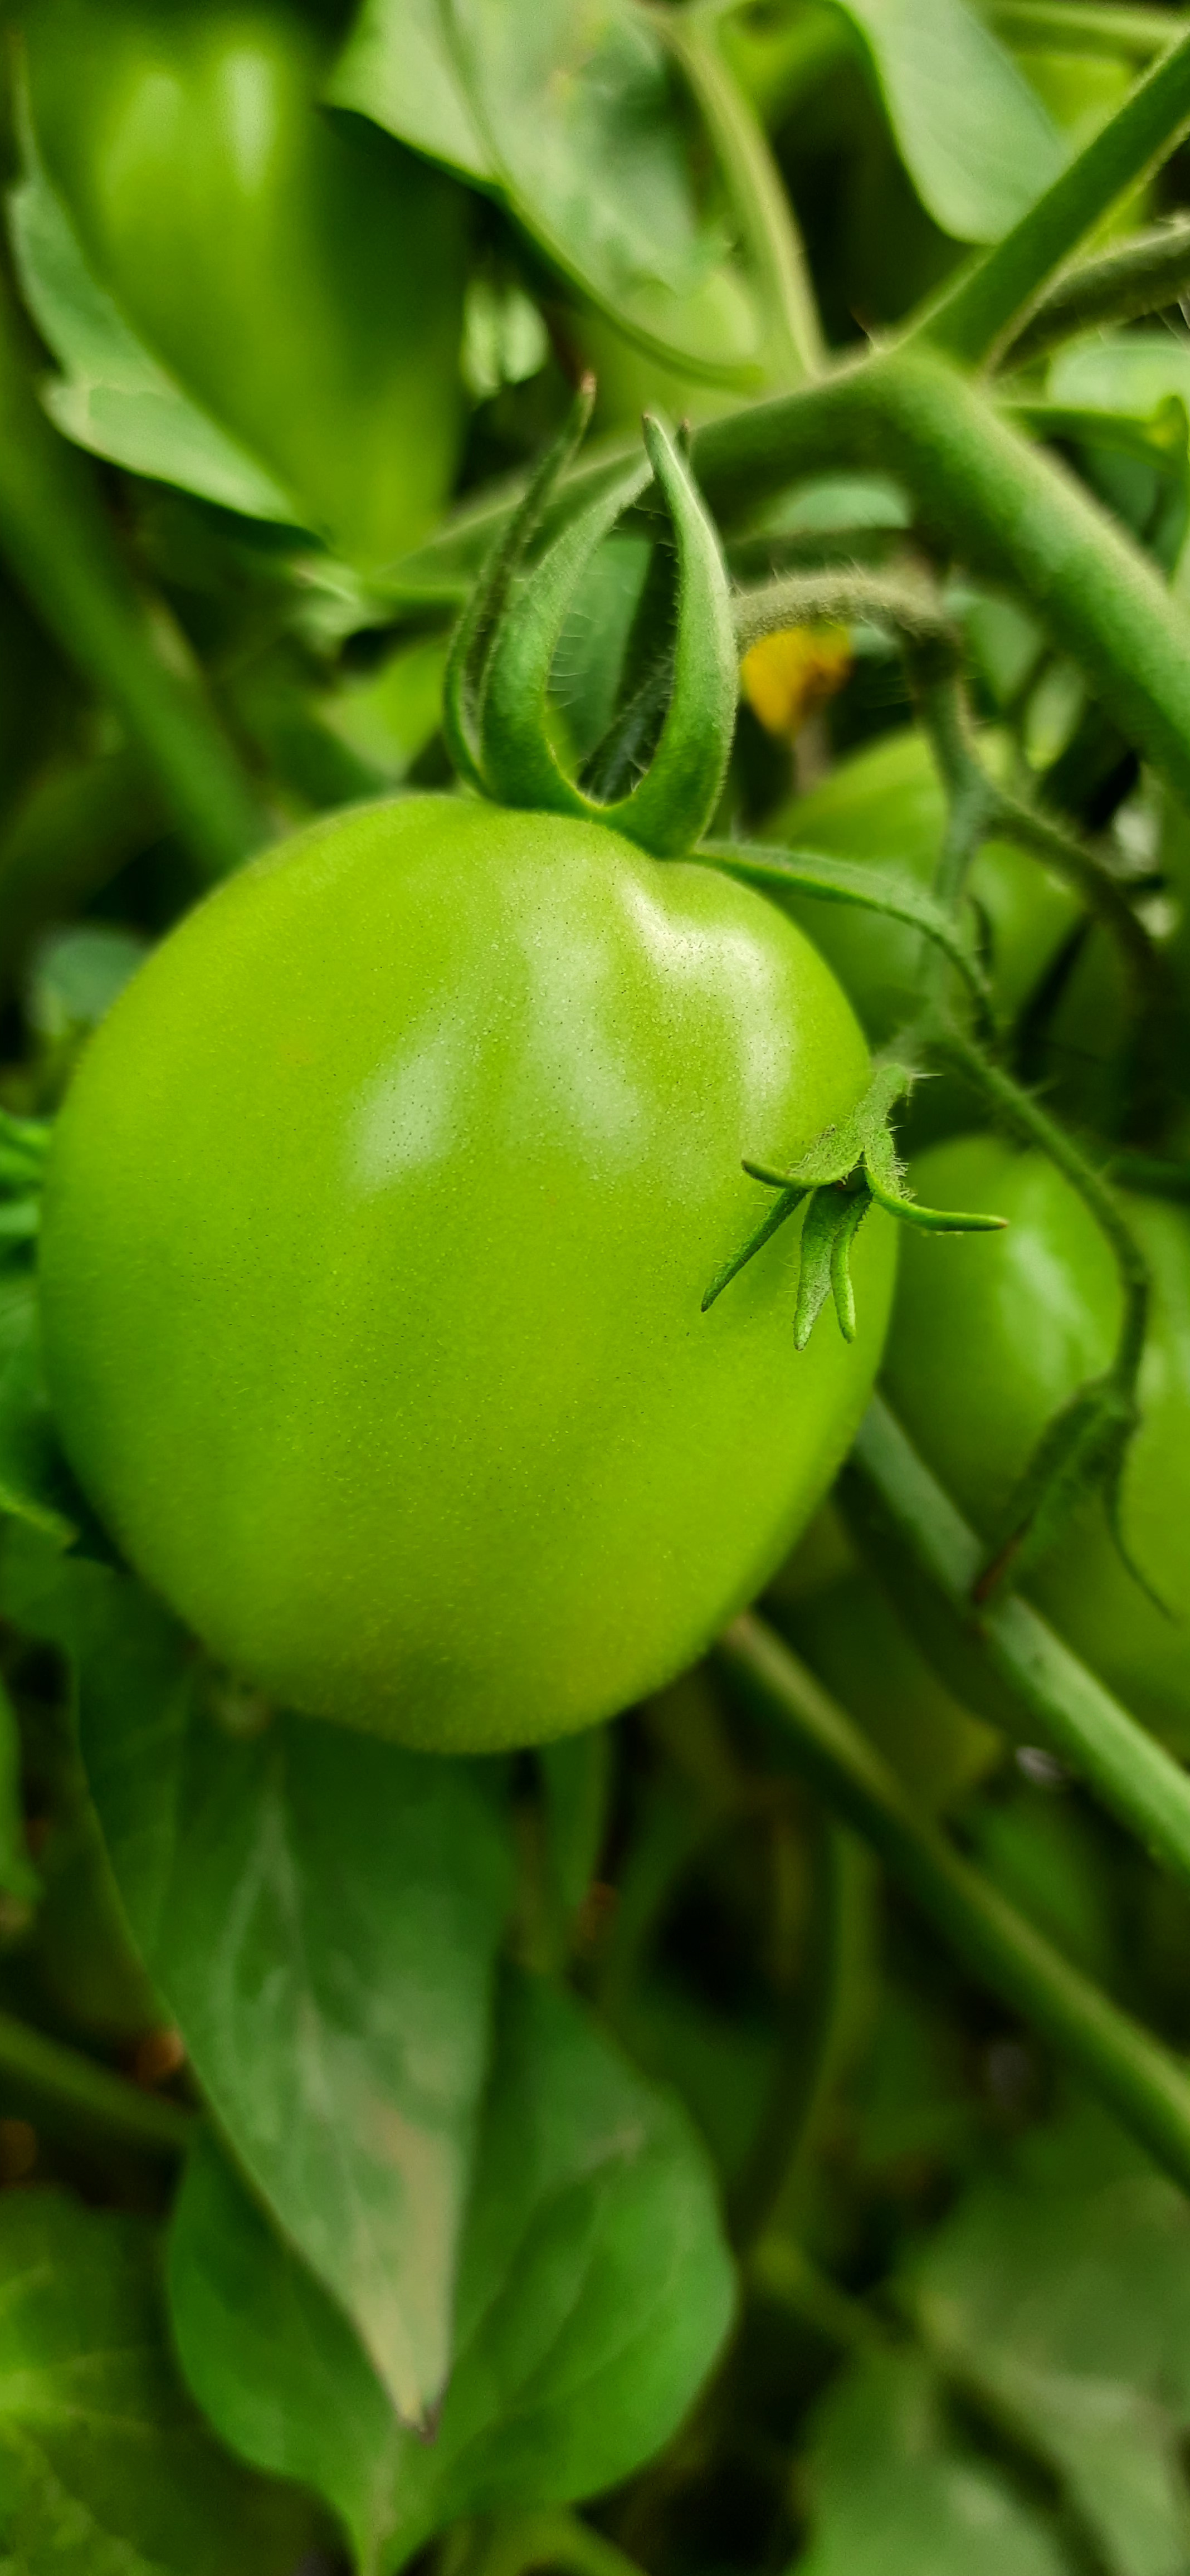raw_tomato: (74, 683, 1050, 1855)
